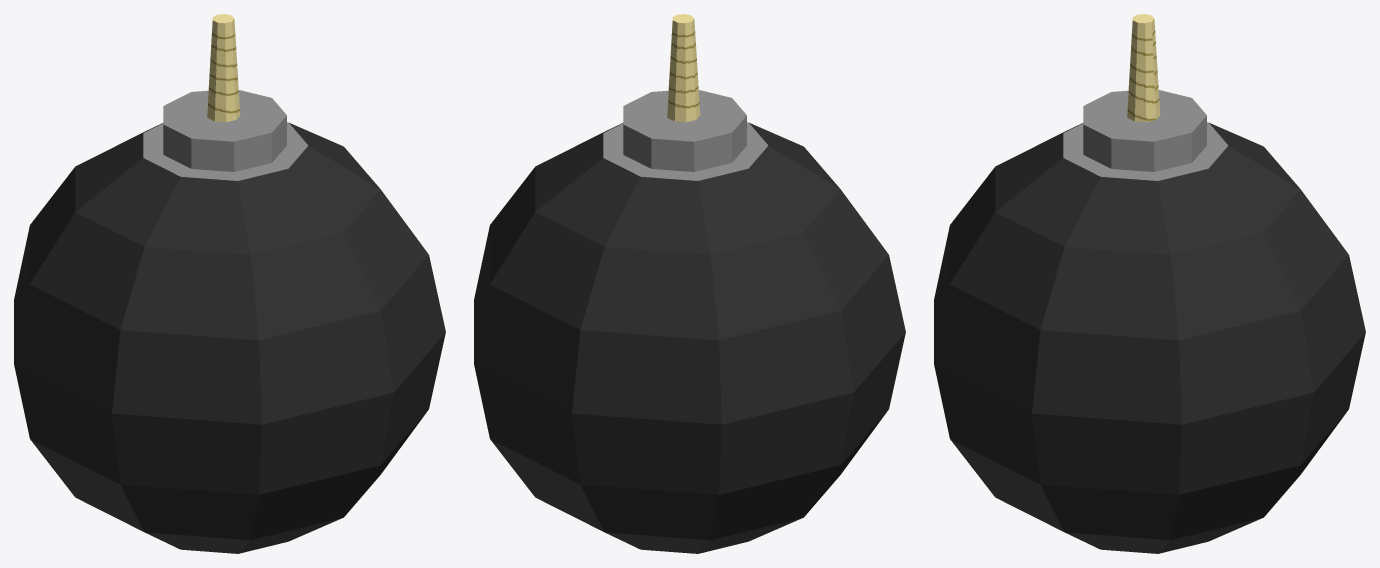
Rendered from bomba.fbx.
3 renders of one model, left to right at view 1: azimuth 30°, elevation 25°; view 2: azimuth 150°, elevation 25°; view 3: azimuth 270°, elevation 25°, orthographic.
Visible parts, largest first — view 1: Sphere; view 2: Sphere; view 3: Sphere.
Part boxes in pixels (bbox=[...]): Sphere: bbox=[14, 14, 445, 553]; Sphere: bbox=[474, 14, 905, 553]; Sphere: bbox=[934, 14, 1365, 553].
Size of the model in its own units: 197 by 255 by 194.
